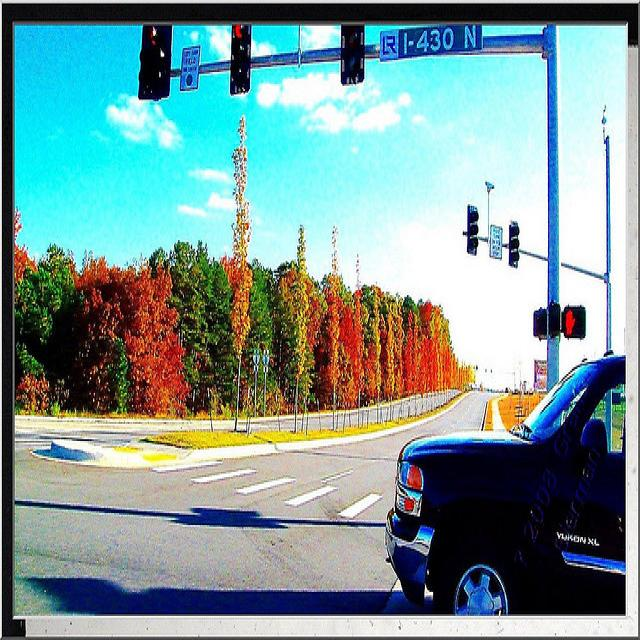Vehicle: (385, 356, 627, 614)
